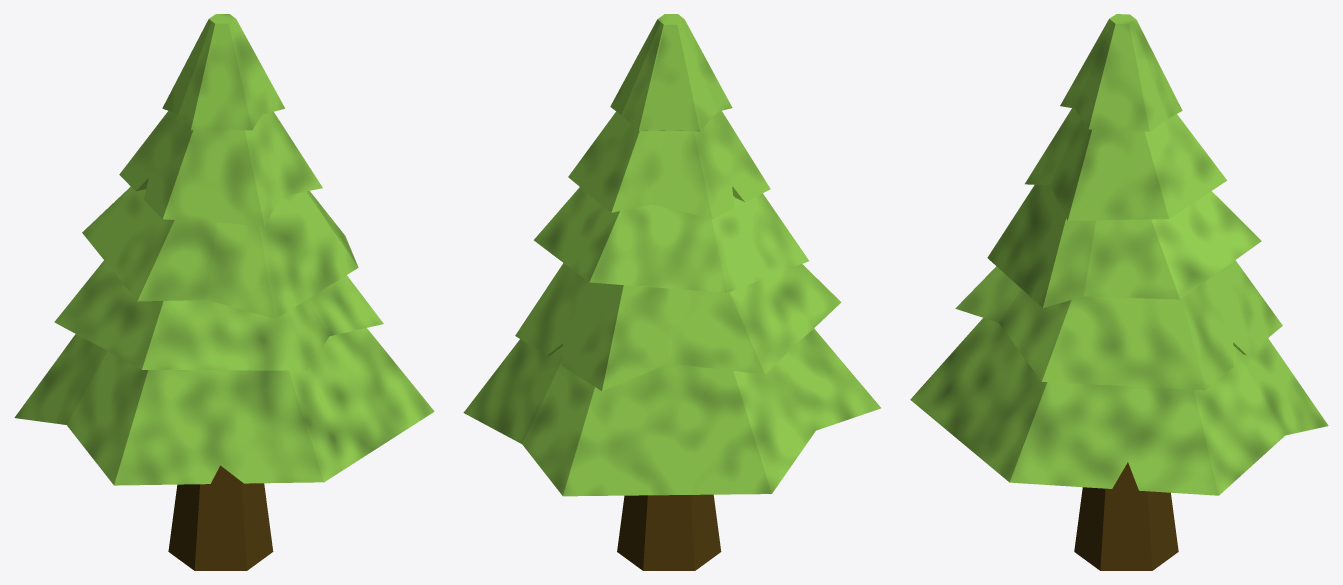
The model's file is strom.gltf.
3 views of the same model, side by side, from view 1: azimuth 30°, elevation 25°; view 2: azimuth 150°, elevation 25°; view 3: azimuth 270°, elevation 25° (orthographic).
Parts seen in each view (by area): view 1: Base, Leaves; view 2: Base, Leaves; view 3: Base, Leaves.
Boxes of the visible parts, x1,y1,x2,y2 form: Base: [14, 14, 434, 485]; Leaves: [168, 465, 273, 570]; Base: [463, 14, 880, 496]; Leaves: [617, 494, 721, 570]; Base: [910, 14, 1328, 495]; Leaves: [1074, 462, 1178, 570].
Bounding box in the file's own units: 3.89 × 6.2 × 4.41.
Materials: 2 (1 with a texture image).
